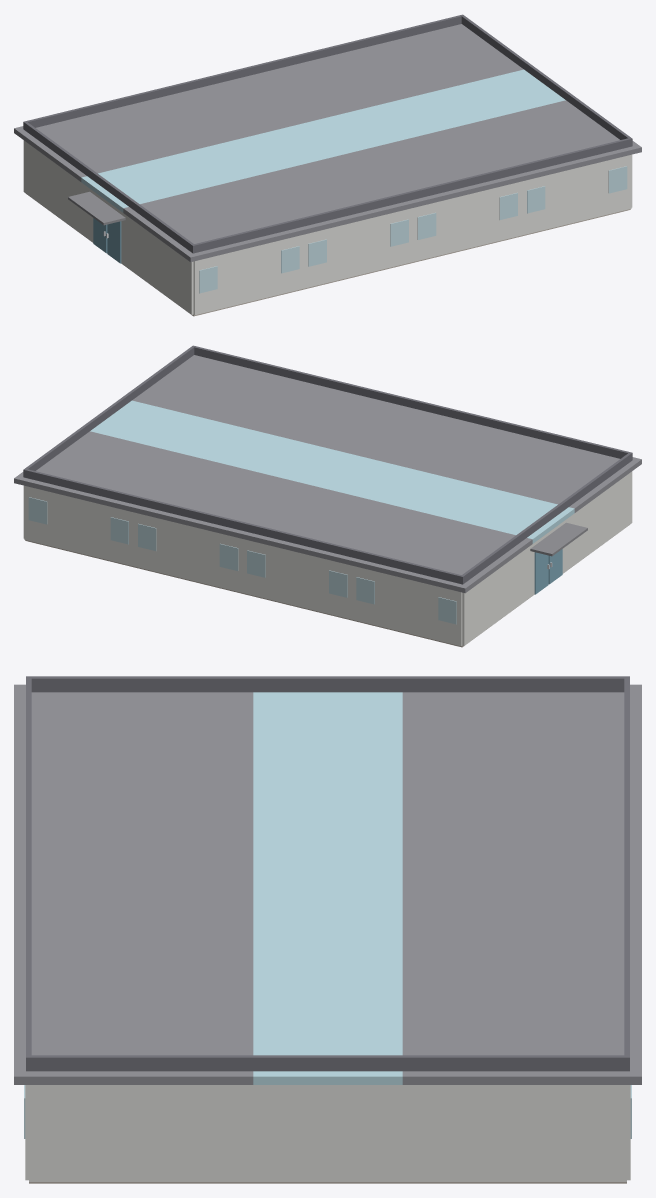
The model's file is Kelas.fbx.
3 renders of one model, top to bottom at view 1: azimuth 30°, elevation 25°; view 2: azimuth 150°, elevation 25°; view 3: azimuth 270°, elevation 25°, orthographic. The views are drawn at different scales.
Visible parts, largest first — view 1: Atap_Selatan, Atap_Utara, Dinding_Selatan, Skylight_Lorong, Dinding_Barat, Parapet_Selatan, Parapet_Utara, Parapet_Barat, Parapet_Timur, Kanopi_Pintu_Masuk, Lantai, Pintu_Masuk_Kiri (+8 smaller); view 2: Atap_Utara, Atap_Selatan, Dinding_Utara, Skylight_Lorong, Dinding_Barat, Parapet_Utara, Parapet_Selatan, Parapet_Barat, Parapet_Timur, Kanopi_Pintu_Masuk, Lantai, Pintu_Masuk_Kanan (+8 smaller); view 3: Atap_Selatan, Atap_Utara, Dinding_Timur, Skylight_Lorong, Parapet_Timur, Parapet_Barat, Parapet_Utara, Parapet_Selatan, Lantai.
Boxes of the visible parts, left/top/right/bottom form: Atap_Selatan: left=123, top=100, right=641, bottom=262; Atap_Utara: left=14, top=24, right=523, bottom=181; Dinding_Selatan: left=193, top=154, right=631, bottom=315; Skylight_Lorong: left=81, top=69, right=565, bottom=212; Dinding_Barat: left=23, top=140, right=193, bottom=314; Parapet_Selatan: left=191, top=138, right=632, bottom=253; Parapet_Utara: left=23, top=14, right=463, bottom=127; Parapet_Barat: left=23, top=122, right=195, bottom=253; Parapet_Timur: left=461, top=15, right=632, bottom=146; Kanopi_Pintu_Masuk: left=68, top=191, right=125, bottom=225; Lantai: left=43, top=206, right=630, bottom=316; Pintu_Masuk_Kiri: left=107, top=221, right=121, bottom=263; Atap_Utara: left=14, top=431, right=532, bottom=593; Atap_Selatan: left=132, top=355, right=641, bottom=512; Dinding_Utara: left=24, top=485, right=462, bottom=646; Skylight_Lorong: left=90, top=400, right=574, bottom=543; Dinding_Barat: left=462, top=471, right=632, bottom=645; Parapet_Utara: left=23, top=468, right=464, bottom=584; Parapet_Selatan: left=194, top=346, right=632, bottom=461; Parapet_Barat: left=460, top=452, right=632, bottom=584; Parapet_Timur: left=23, top=345, right=195, bottom=477; Kanopi_Pintu_Masuk: left=530, top=522, right=587, bottom=556; Lantai: left=25, top=537, right=612, bottom=647; Pintu_Masuk_Kanan: left=534, top=552, right=548, bottom=594; Atap_Selatan: left=14, top=684, right=253, bottom=1084; Atap_Utara: left=402, top=684, right=641, bottom=1084; Dinding_Timur: left=29, top=1085, right=626, bottom=1181; Skylight_Lorong: left=253, top=692, right=402, bottom=1084; Parapet_Timur: left=26, top=1055, right=629, bottom=1071; Parapet_Barat: left=26, top=676, right=624, bottom=692; Parapet_Utara: left=624, top=676, right=629, bottom=1071; Parapet_Selatan: left=26, top=678, right=31, bottom=1071; Lantai: left=29, top=1182, right=626, bottom=1183.
Size of the model in its own units: 2570 by 375 by 1680.
